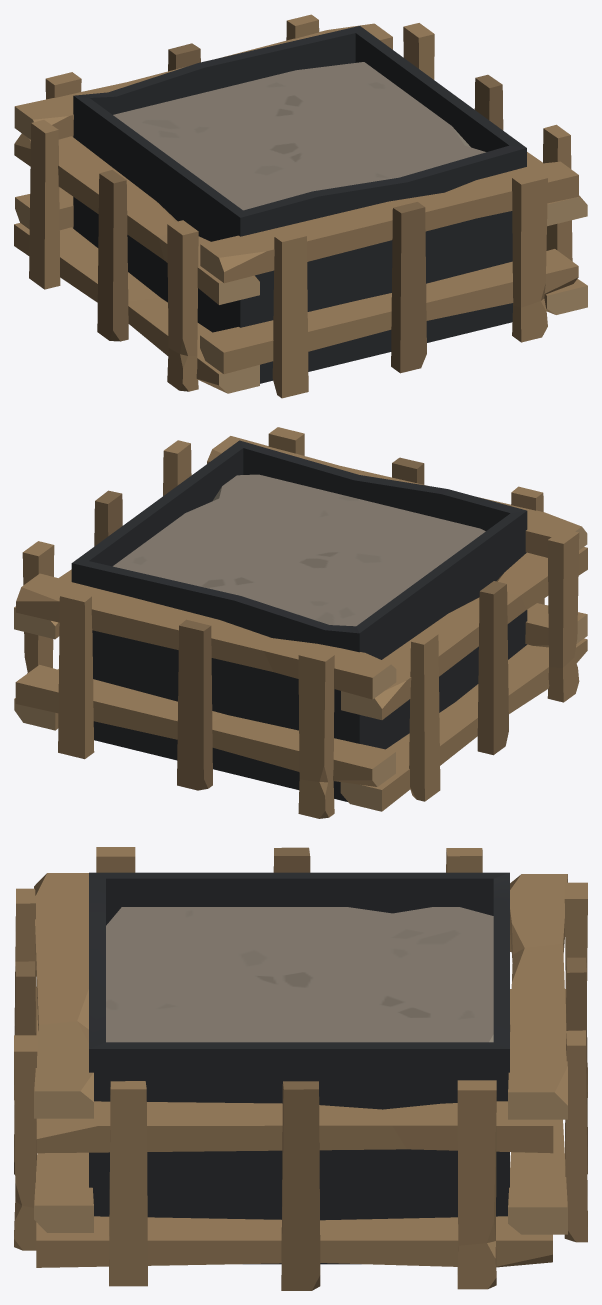
Rendered from SM_Bld_ConcreteFrame_Pillar_Short_02.fbx.
3 renders of one model, top to bottom at view 1: azimuth 30°, elevation 25°; view 2: azimuth 150°, elevation 25°; view 3: azimuth 270°, elevation 25°, orthographic. The views are drawn at different scales.
Visible parts, largest first — view 1: SM_Bld_ConcreteFrame_Pillar_Short_02; view 2: SM_Bld_ConcreteFrame_Pillar_Short_02; view 3: SM_Bld_ConcreteFrame_Pillar_Short_02.
Part boxes in pixels (x1,y1,x2,y2): SM_Bld_ConcreteFrame_Pillar_Short_02: (14, 14, 587, 398); SM_Bld_ConcreteFrame_Pillar_Short_02: (14, 427, 587, 818); SM_Bld_ConcreteFrame_Pillar_Short_02: (14, 847, 587, 1290).
Size of the model in its own units: 186 by 77.63 by 185.
